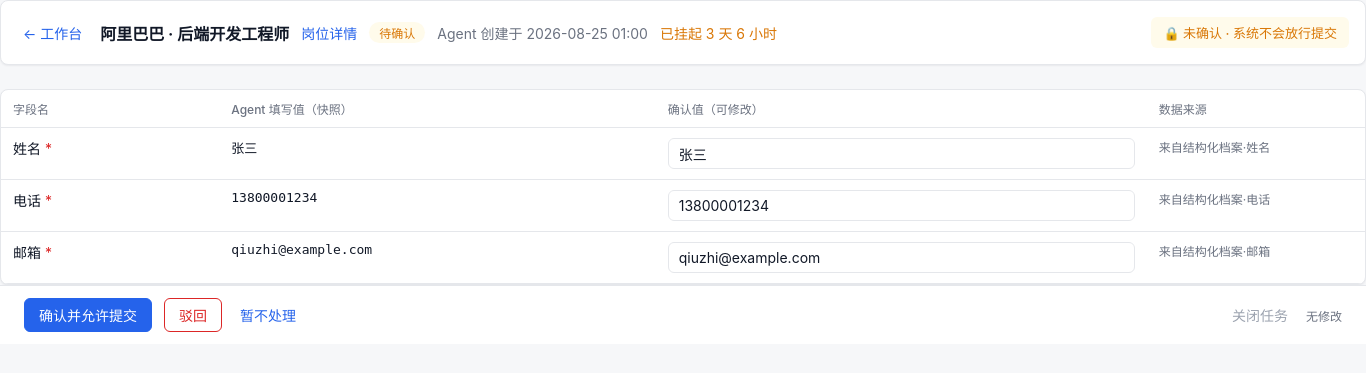
Scenario: D-06 人工确认界面（BR-1） › 必填字段清空后点确认 → 行内标红，不进入二次确认（校验反馈）
Clear the field named "确认值-电话" at (901, 206), box 668,190 -> 1135,221
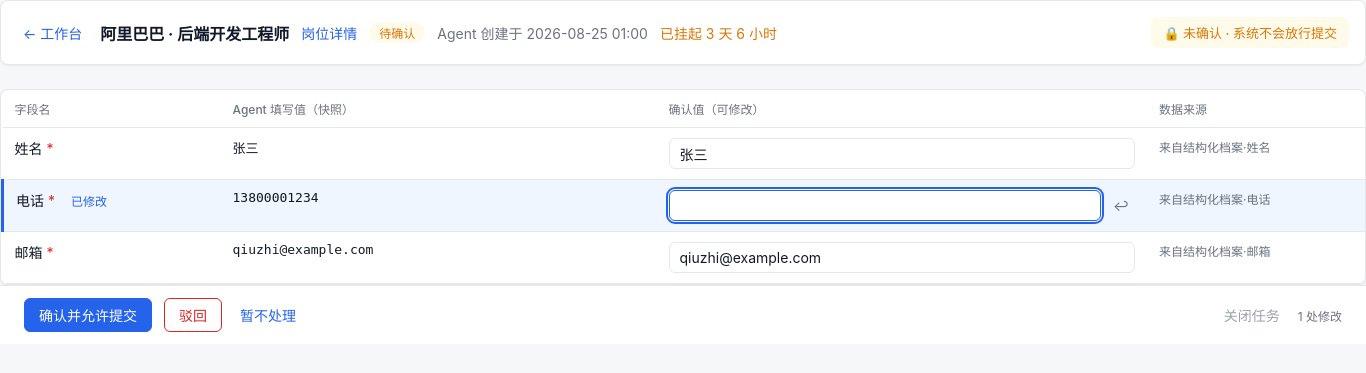
Click the button "确认并允许提交" at (88, 315), box 24,298 -> 152,332
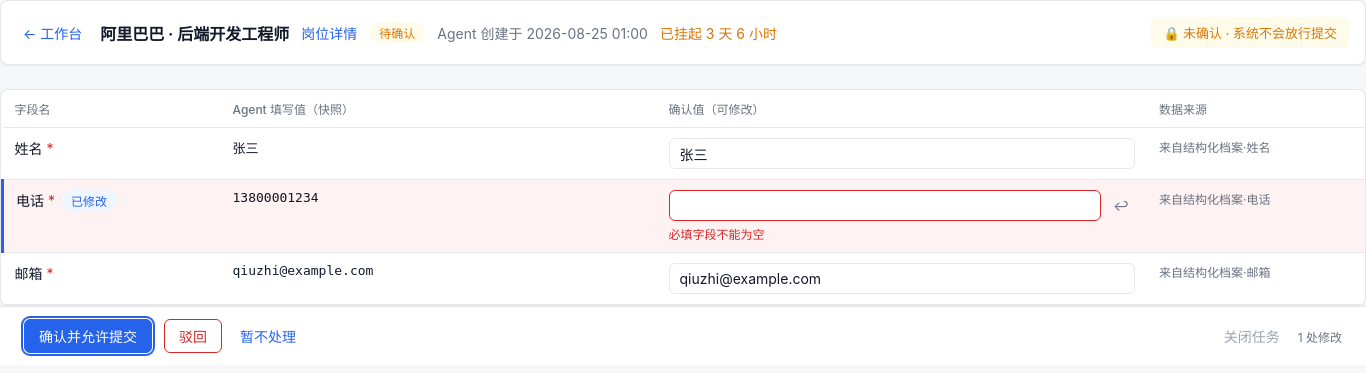
Expected: the text "必填字段不能为空" is shown, 668,227 -> 764,242
